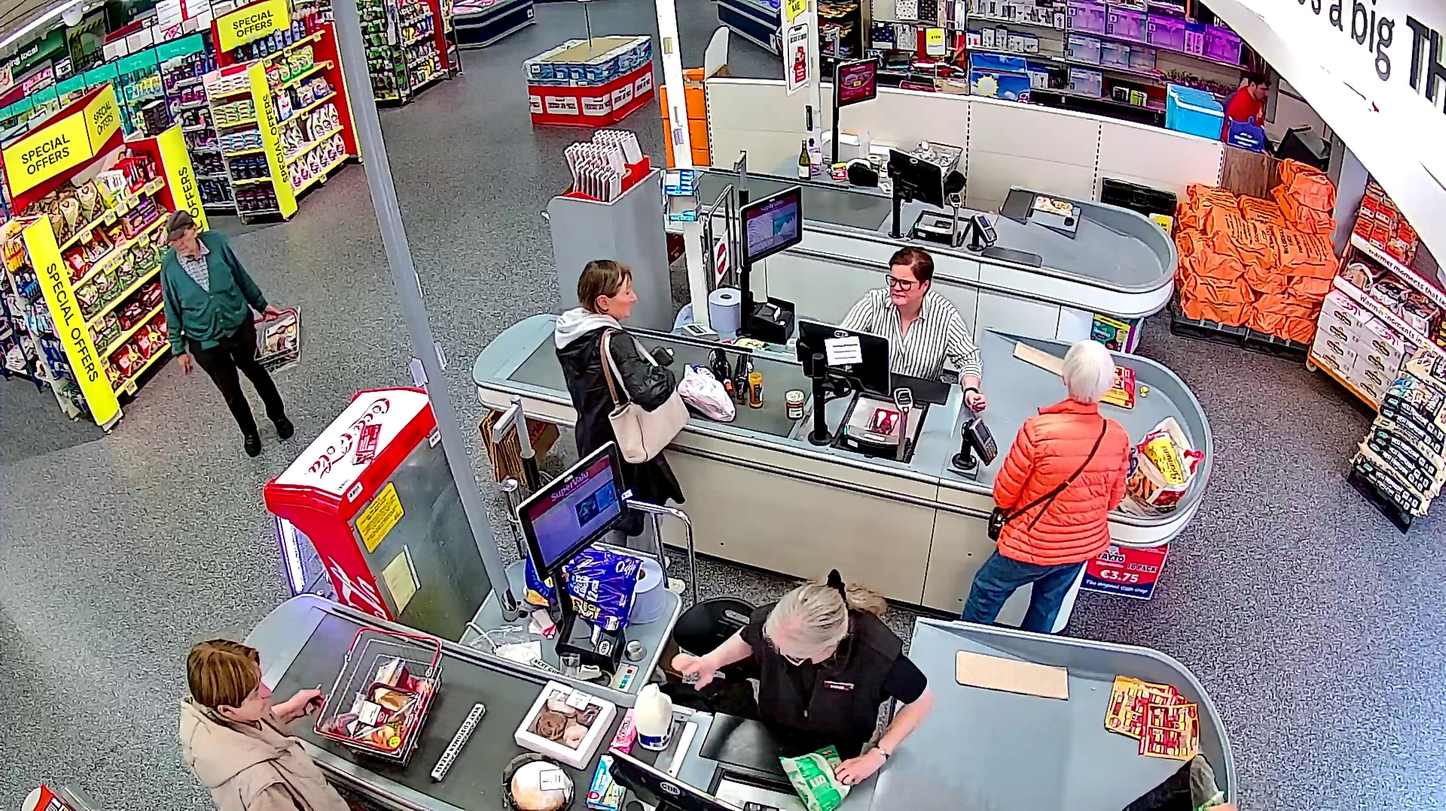backpack-or-handbag: (608, 384, 689, 463), (988, 505, 1007, 542)
filled-basket: (253, 302, 304, 372)
occupied-checkout-counter: (516, 438, 935, 811), (735, 180, 999, 497)
person: (961, 342, 1129, 631), (554, 260, 686, 593), (161, 213, 295, 458)
person-with-backpack-handbag: (961, 341, 1129, 629), (554, 260, 691, 595)
person-with-filled-basket-trolly: (161, 212, 306, 453)
vacant-checkout-counter: (830, 48, 1022, 265)
